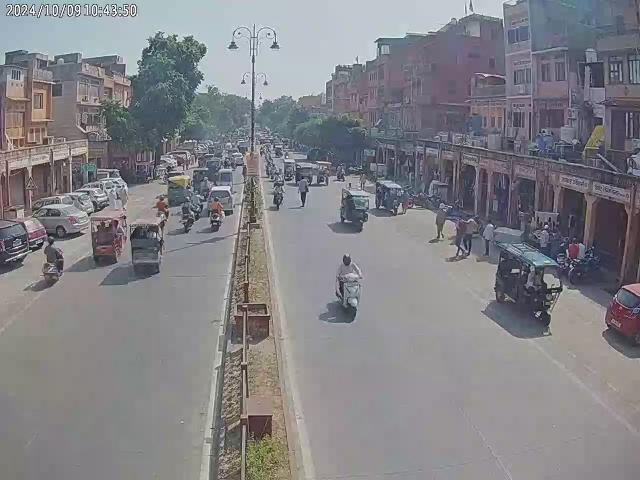auto: (494, 240, 564, 324), (90, 206, 126, 266), (128, 221, 166, 275), (340, 188, 372, 232), (374, 180, 406, 215), (166, 174, 192, 206), (190, 166, 210, 192)
car: (604, 282, 640, 346), (30, 204, 90, 238), (208, 186, 234, 214)
helmet: (342, 253, 352, 266), (46, 234, 55, 246), (184, 197, 191, 204), (159, 195, 165, 202), (213, 196, 220, 201)
motorbike: (566, 250, 606, 286)
motorbike-rider: (182, 194, 196, 235), (272, 179, 284, 209)
person: (454, 213, 476, 261), (480, 218, 496, 262), (432, 203, 448, 242), (297, 175, 308, 204)
scooty-rider: (334, 254, 364, 318), (40, 233, 64, 284), (208, 196, 224, 230), (155, 194, 170, 222)
